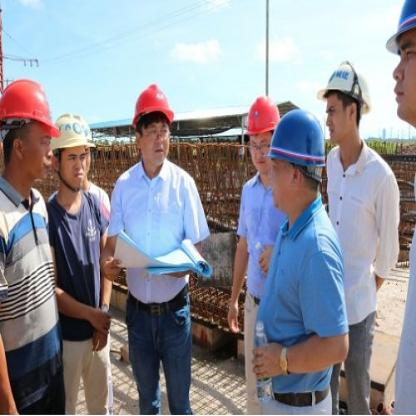capacete: (0, 77, 58, 195), (268, 108, 326, 210), (318, 59, 372, 142), (384, 0, 415, 130), (130, 84, 174, 165), (51, 112, 89, 188), (242, 94, 274, 176)
sem_colete_refletivo: (246, 213, 352, 396), (106, 162, 211, 303), (324, 142, 405, 321), (0, 176, 62, 399), (45, 188, 109, 352), (226, 169, 288, 298), (392, 130, 415, 415)
